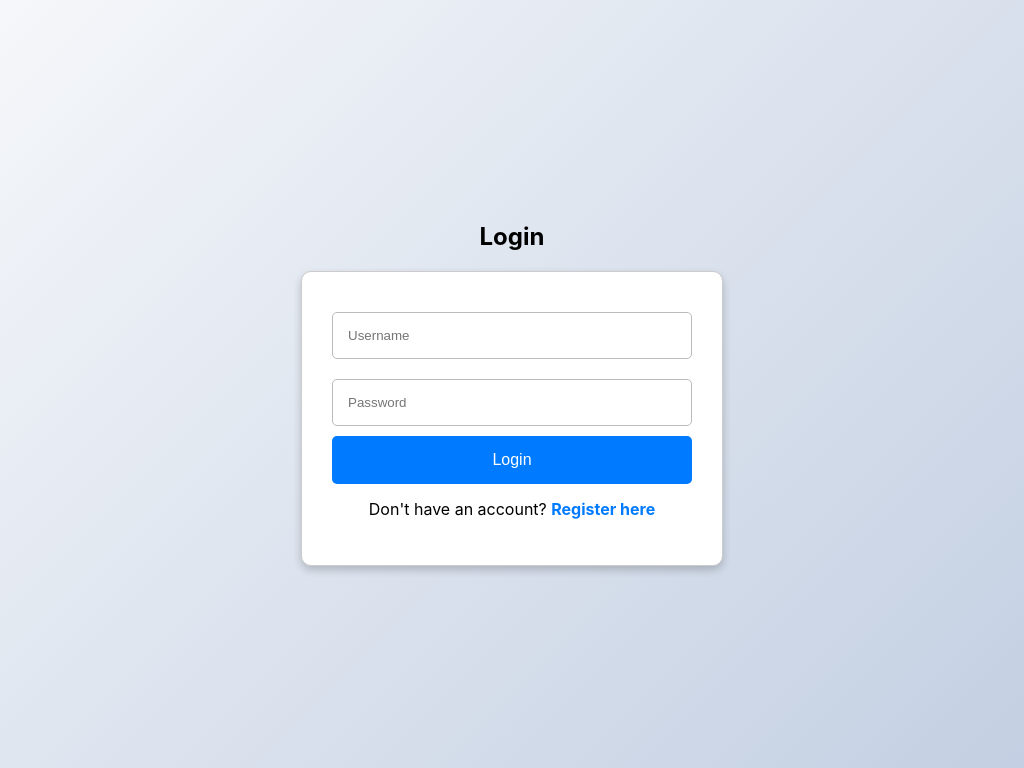
LoginPage › displays an error message on failed login
Note: Simulate typing into the input fields
Type "testuser" into the field with placeholder "Username" at (512, 335), box [332,312,692,359]
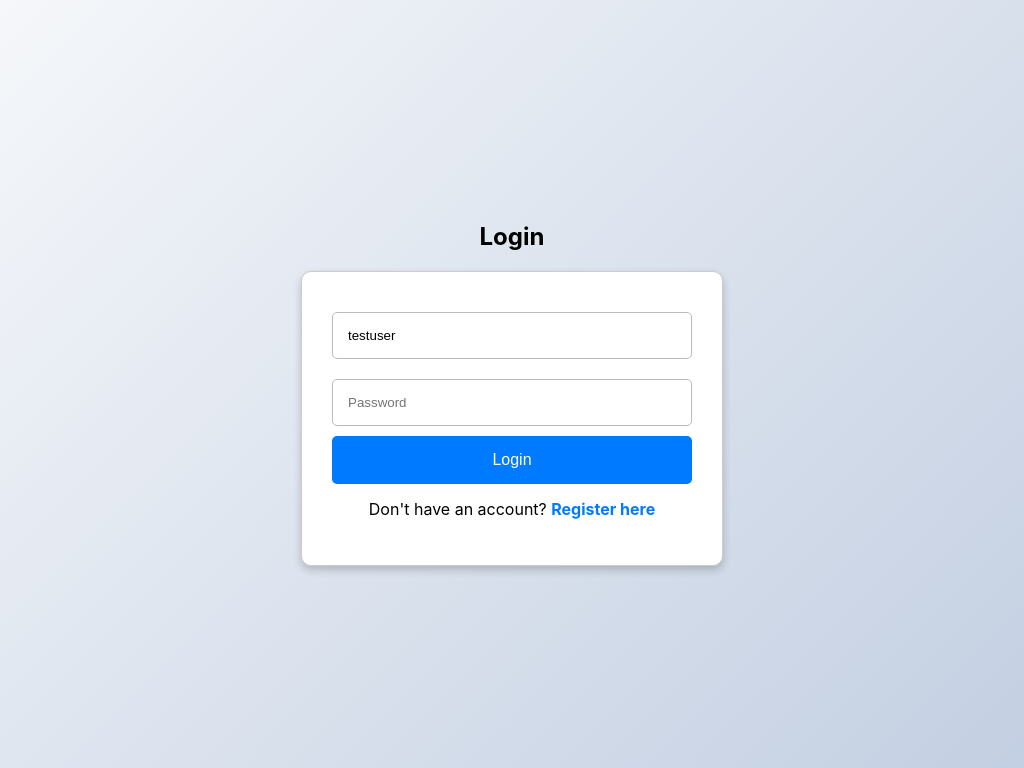
Type "wrongpassword" into the password field with placeholder "Password" at (512, 402), box [332,379,692,426]
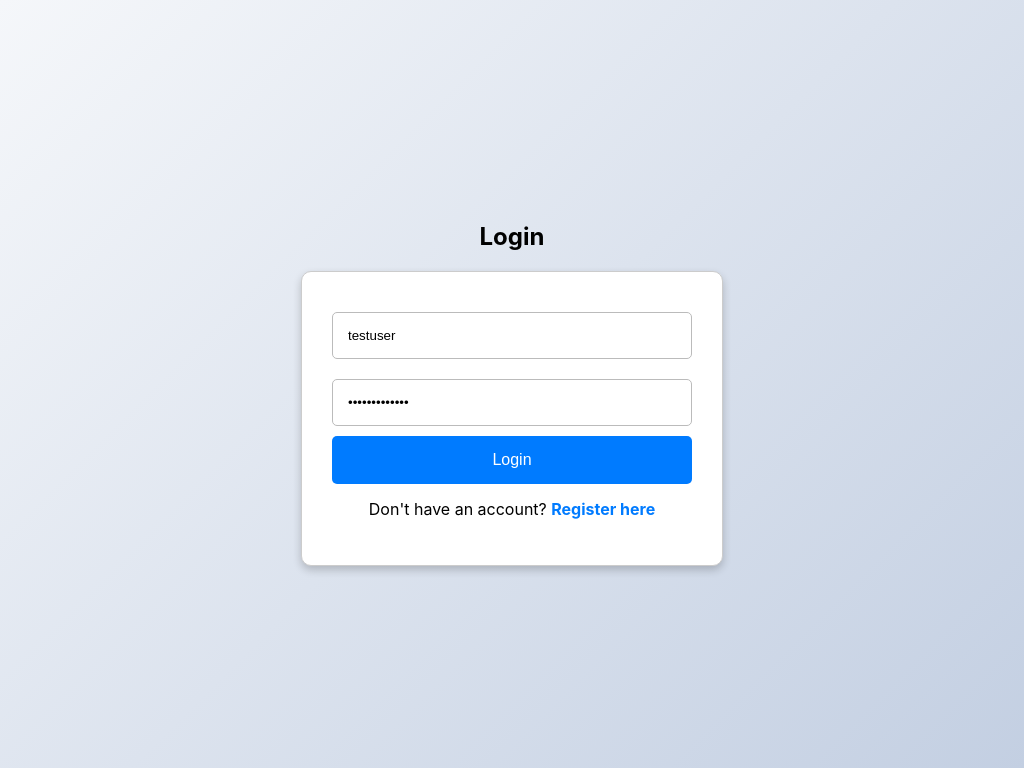
Note: Click the login button
Click the button "Login" at (512, 460), box [332,436,692,484]
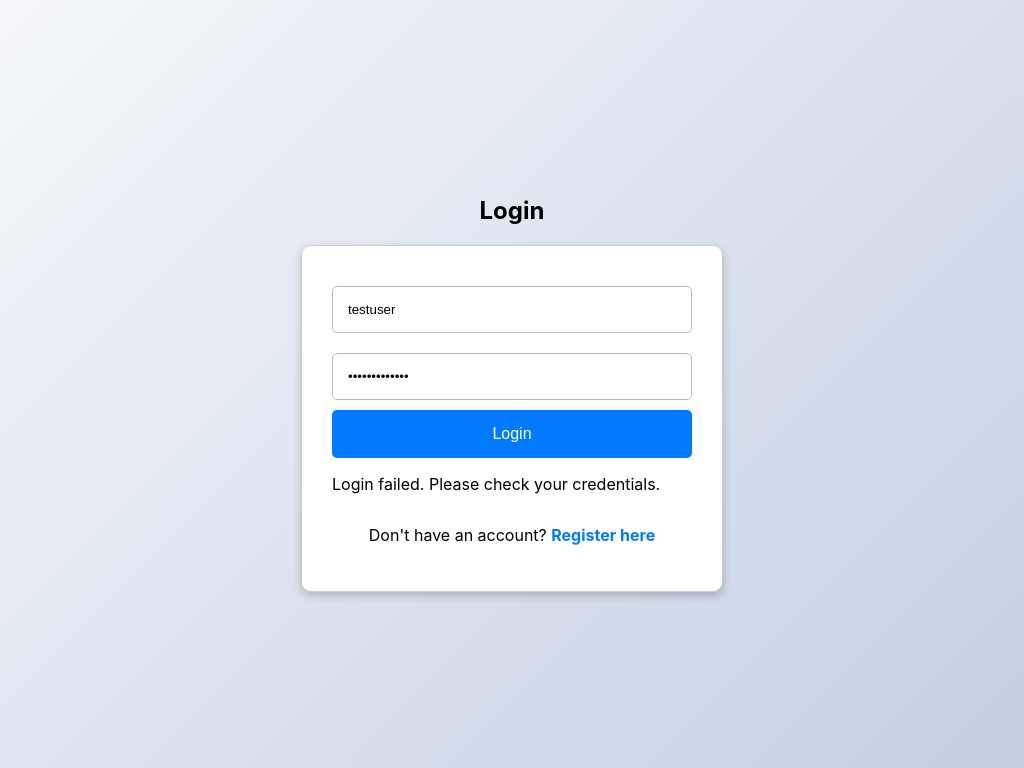
Now the text "Login failed. Please check your credentials." is shown, box [332,474,692,494]
